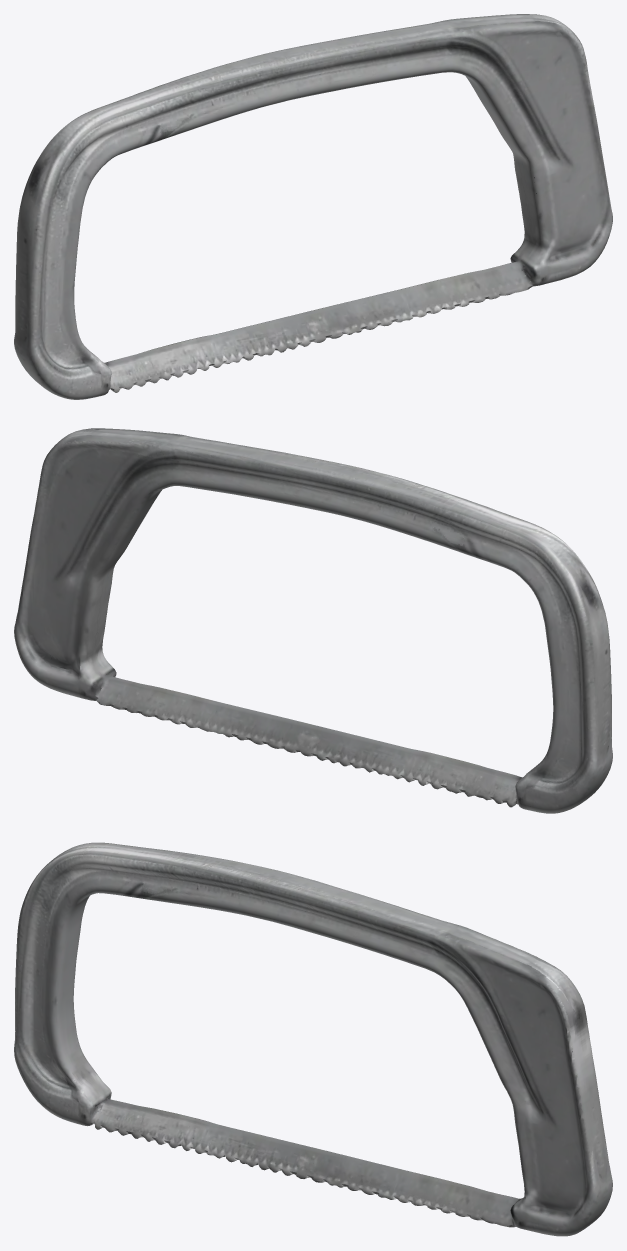
File: bone-saw-hand.glb
3 views of the same model, one above another, from view 1: azimuth 30°, elevation 25°; view 2: azimuth 150°, elevation 25°; view 3: azimuth 330°, elevation 25° (orthographic).
Parts seen in each view (by area): view 1: cowninja-bone-saw-hand; view 2: cowninja-bone-saw-hand; view 3: cowninja-bone-saw-hand.
Part boxes in pixels (x1,y1,x2,y2): cowninja-bone-saw-hand: (14,14,612,399); cowninja-bone-saw-hand: (14,428,612,813); cowninja-bone-saw-hand: (14,842,612,1236).
Bounding box in the file's own units: 0.6 × 0.2847 × 0.0404.
Materials: 1 (1 with a texture image).
